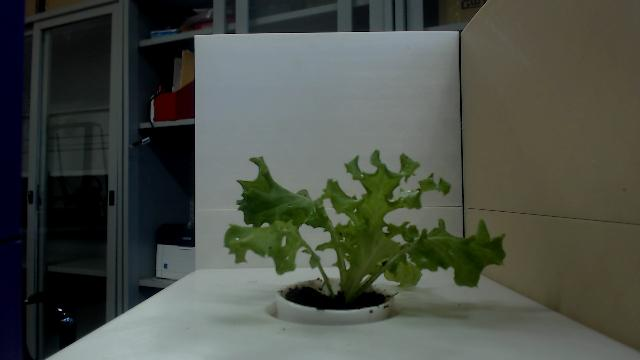Vegetative Stage: (224, 148, 508, 304)
